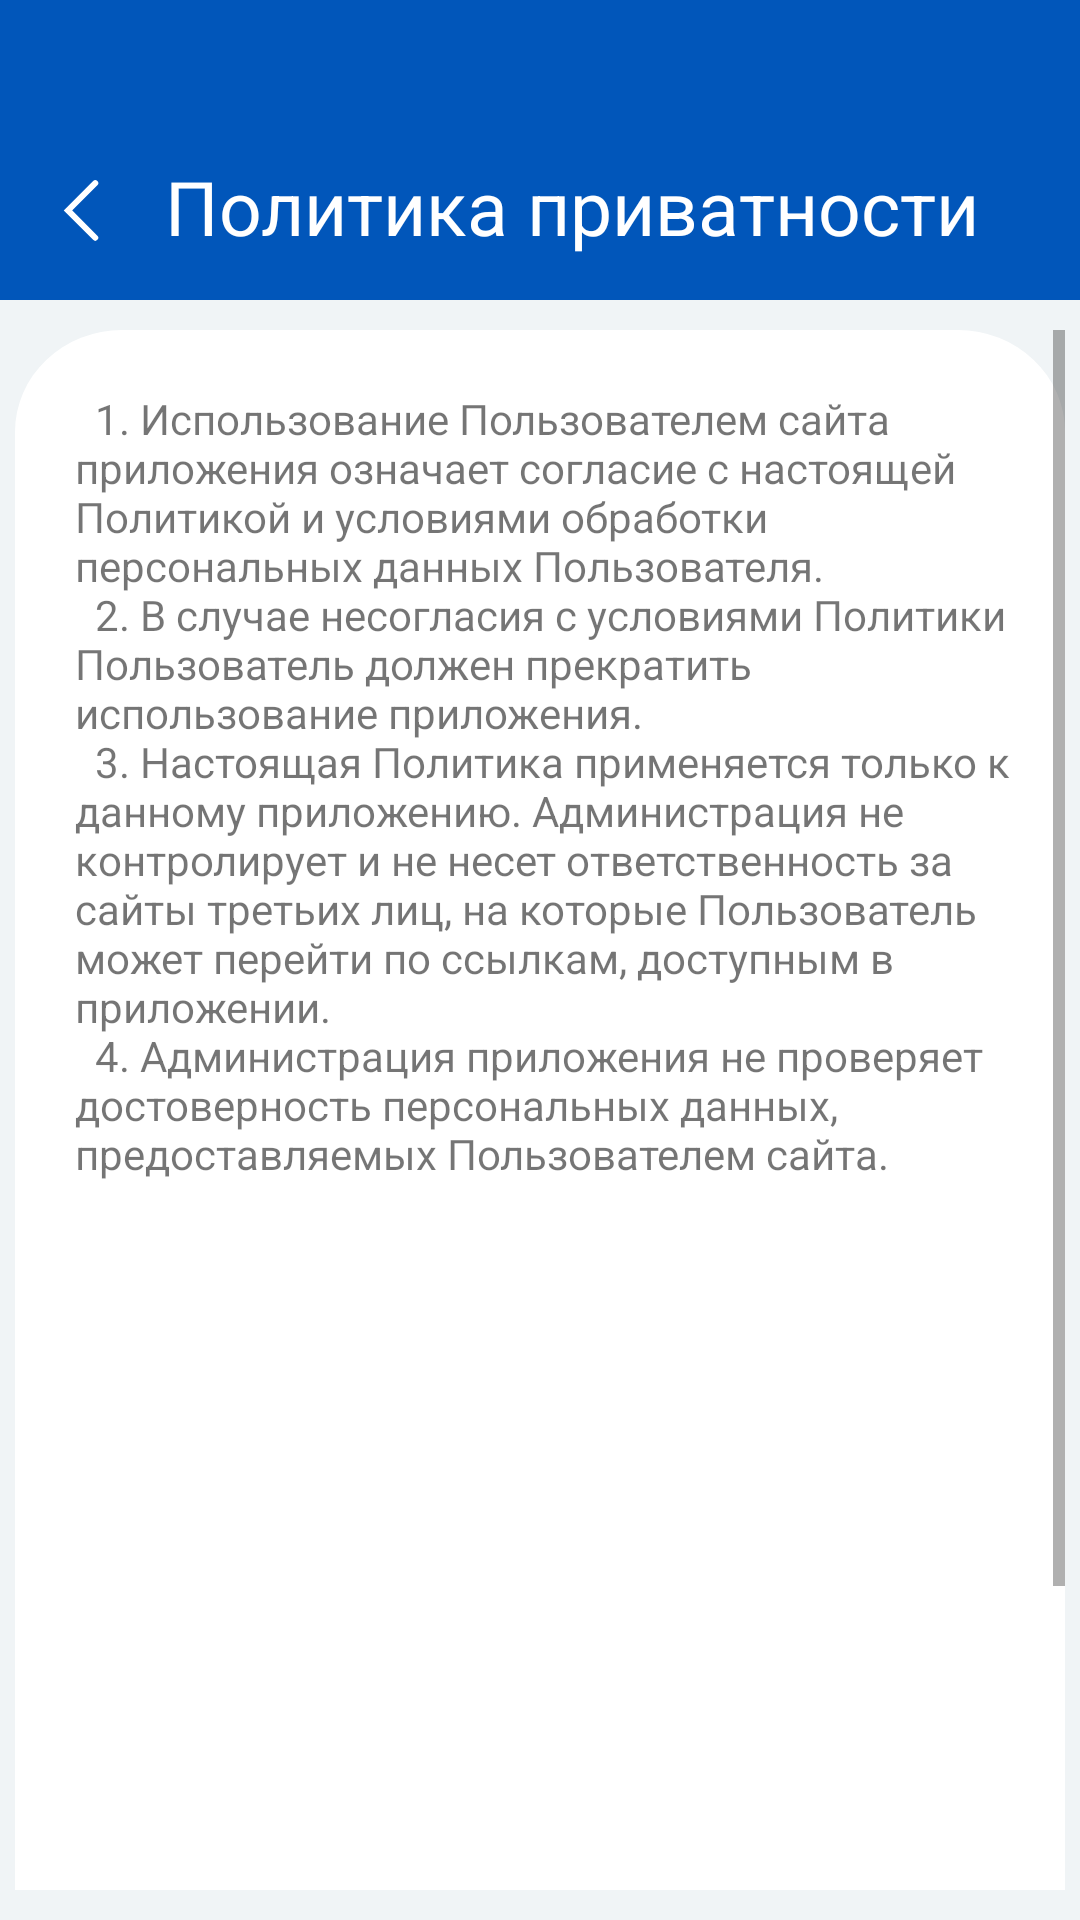

Named icons in this screenshot (1080 x 1920) and their centers, (x,y):
sign back: (81,210)
